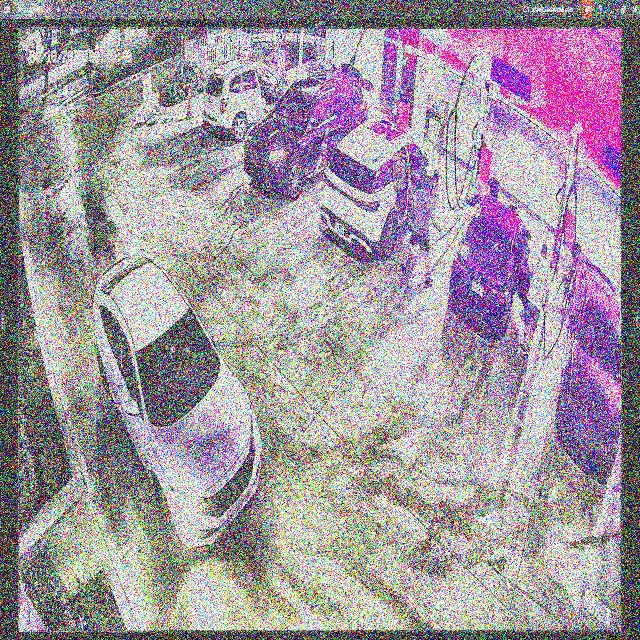Car: (89, 254, 264, 549), (323, 118, 442, 260), (244, 71, 368, 198), (450, 195, 529, 340)
